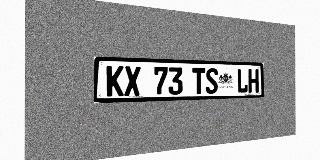3: (168, 67, 182, 95)
7: (153, 67, 168, 95)
H: (248, 69, 259, 93)
K: (106, 66, 124, 96)
L: (237, 69, 248, 93)
S: (206, 68, 218, 94)
T: (192, 68, 205, 94)
X: (124, 66, 141, 96)
